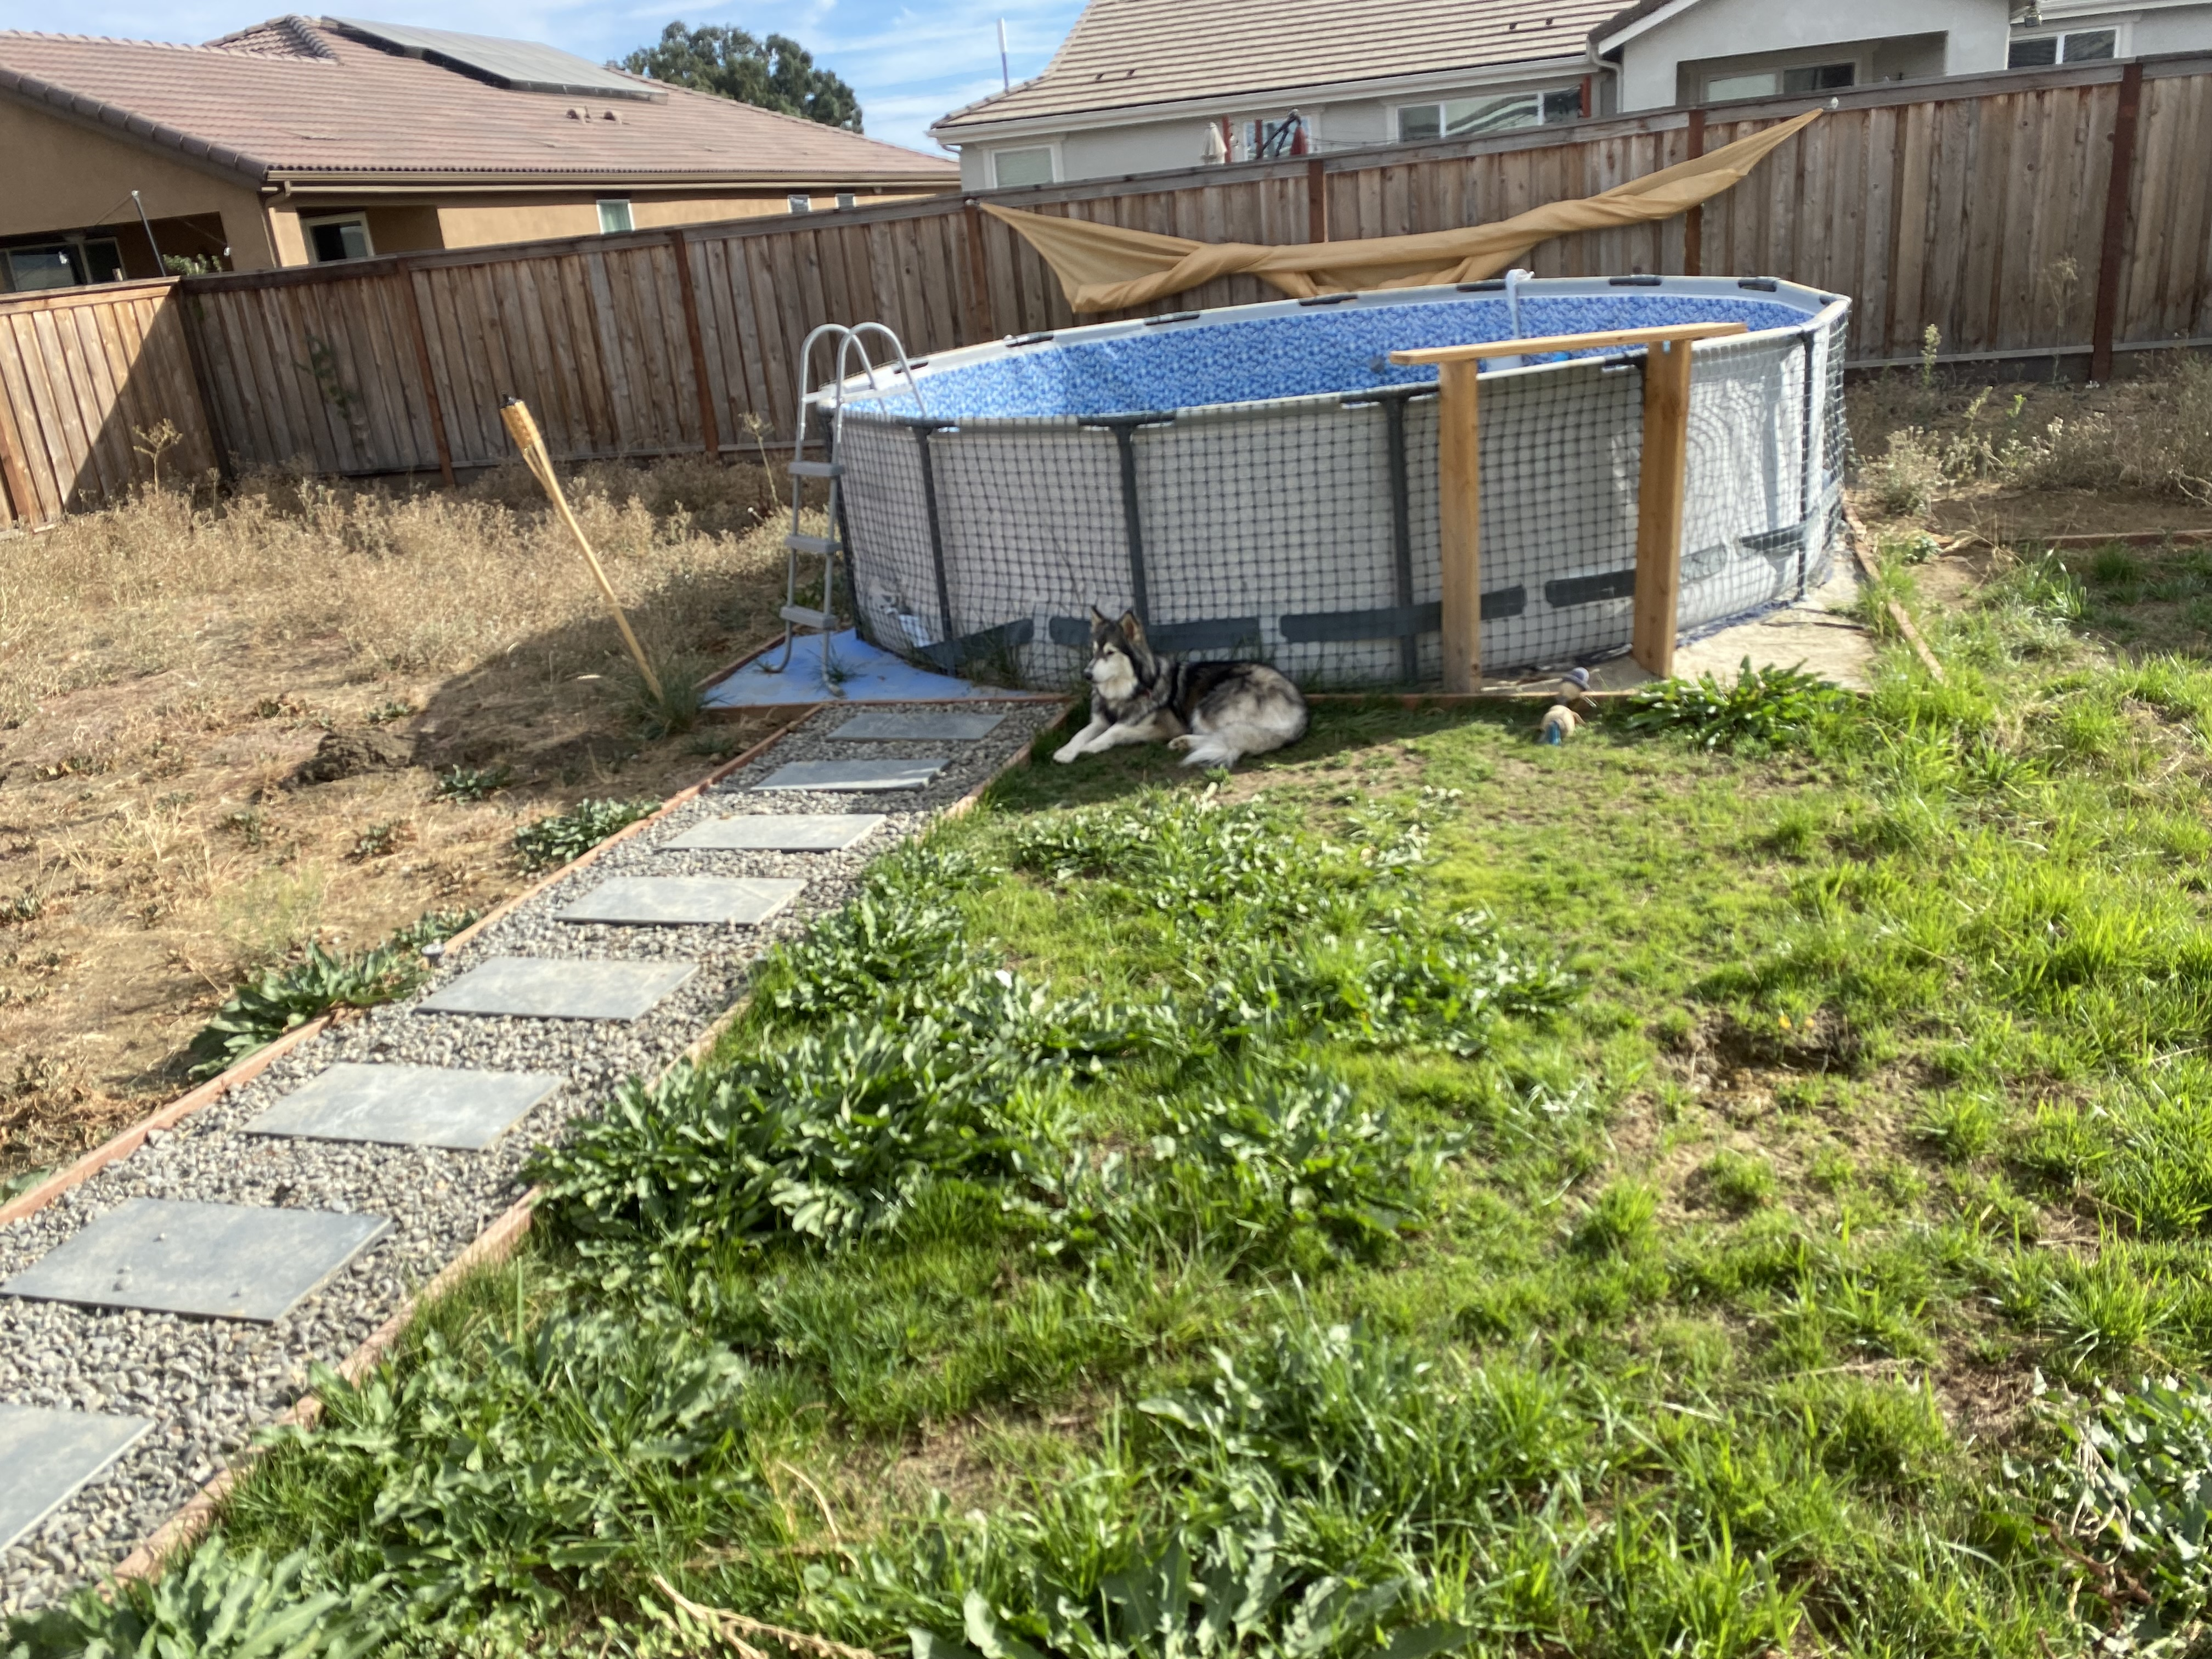weed: (939, 1523, 1465, 1659), (404, 1326, 749, 1513), (2012, 1363, 2212, 1659), (585, 1082, 960, 1227), (805, 894, 1042, 1082), (1177, 809, 1376, 1012), (14, 1561, 411, 1659), (1167, 1080, 1407, 1216), (225, 950, 428, 1035), (1655, 678, 1841, 742)
